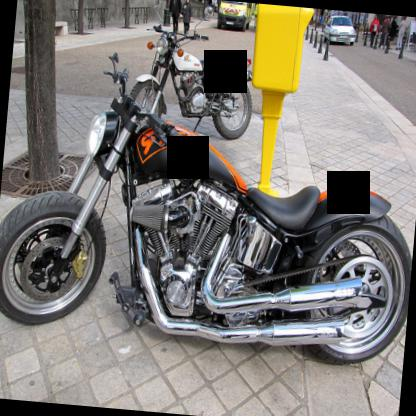backpack: (373, 23, 377, 32)
